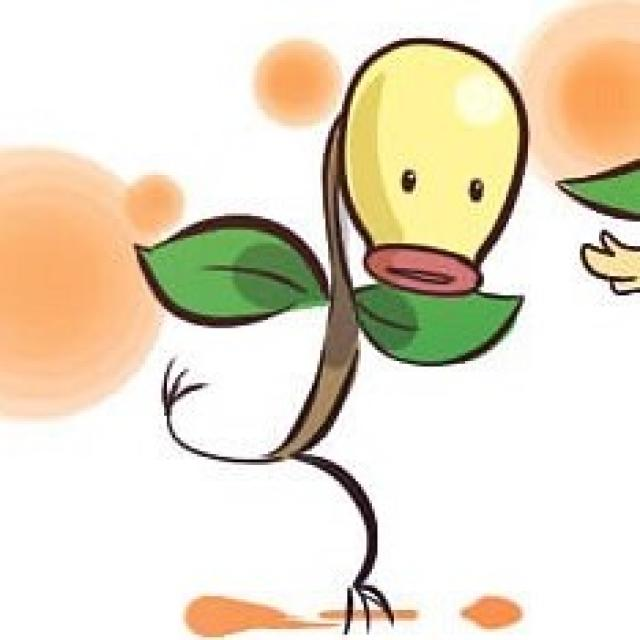Bellsprout: (274, 28, 530, 458)
